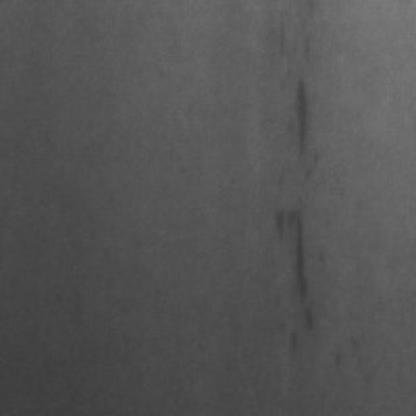inclusion: (268, 200, 320, 360), (280, 62, 316, 164)
